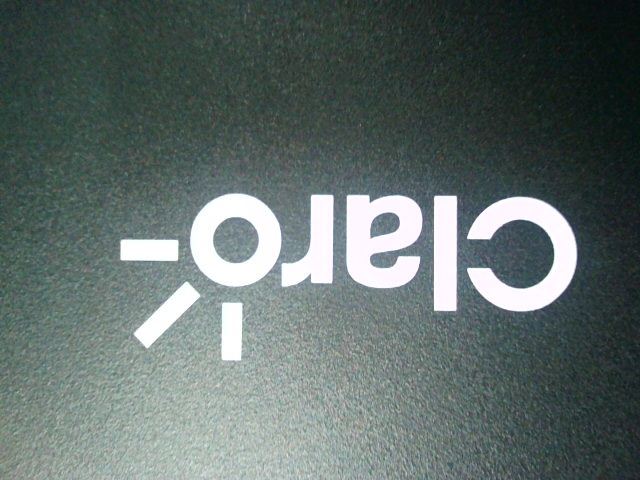BC_Claor: (104, 170, 578, 361)
